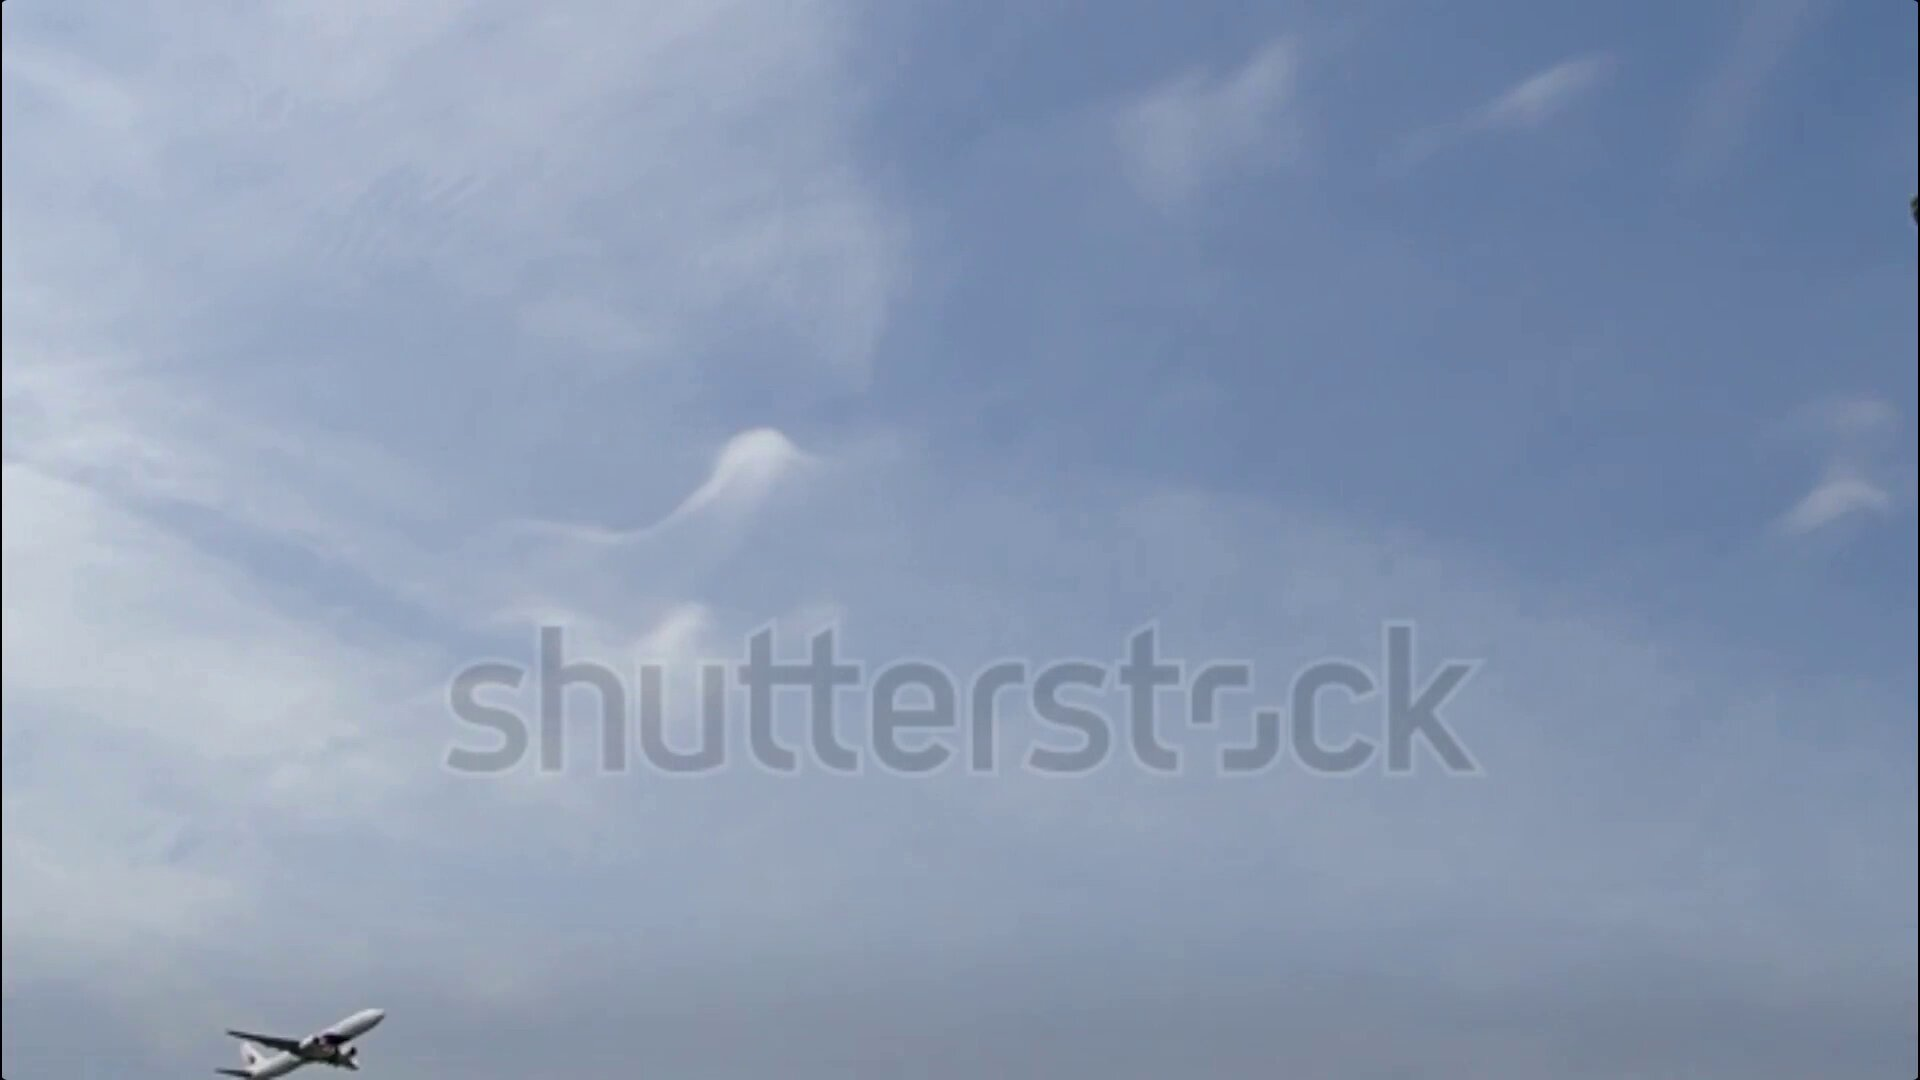airplane: (215, 1005, 388, 1080)
